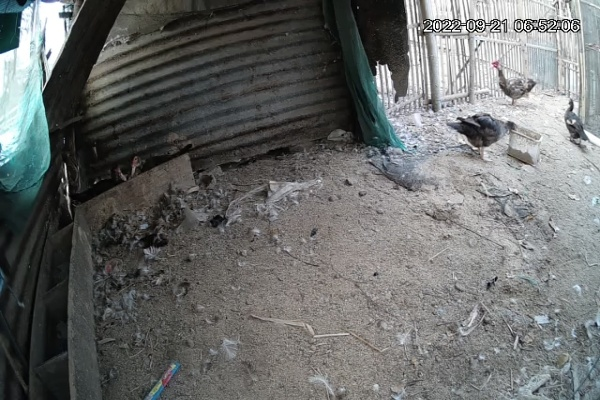Entog: (447, 108, 516, 155), (490, 58, 540, 105), (561, 95, 590, 150)
